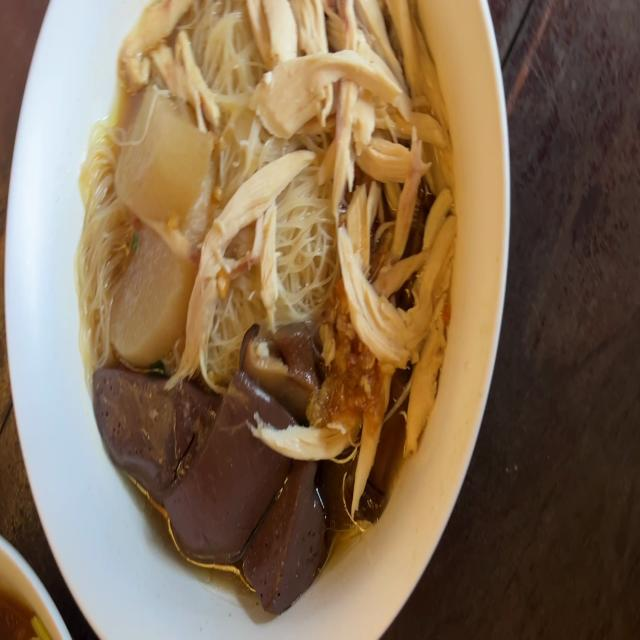noodle: (92, 381, 327, 595)
